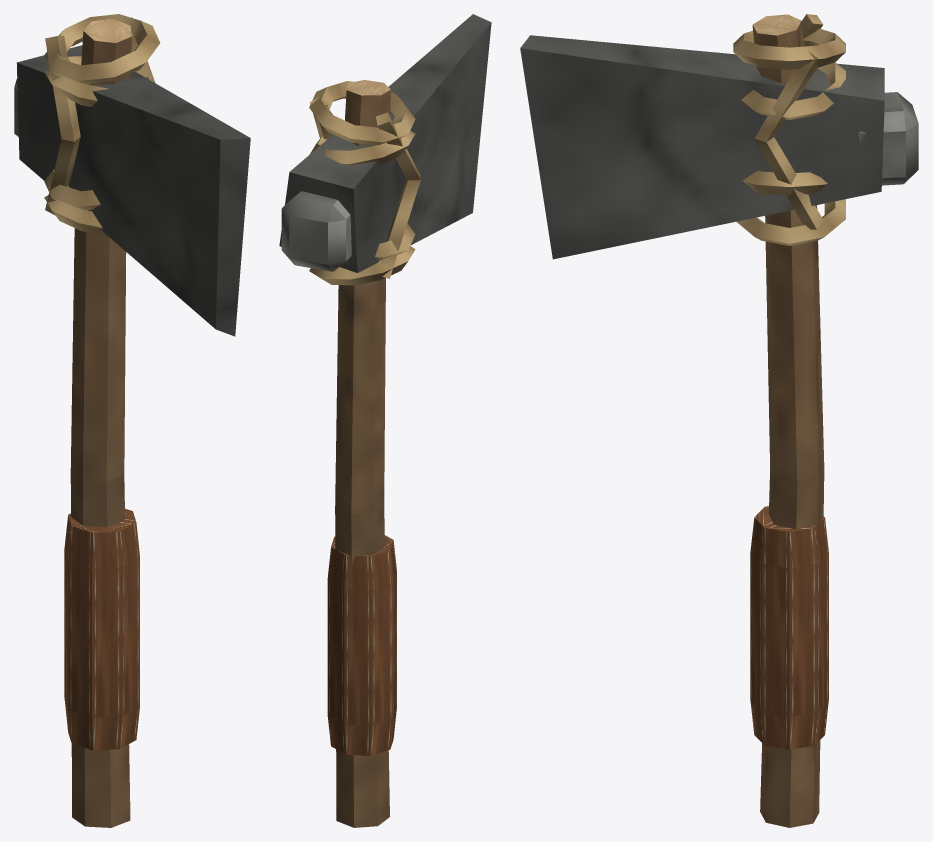
Rendered from SM_StoneAxe.fbx.
The picture shows the model from 3 angles, left to right: view 1: azimuth 30°, elevation 25°; view 2: azimuth 150°, elevation 25°; view 3: azimuth 270°, elevation 25°; orthographic projection. The views are drawn at different scales.
Parts seen in each view (by area): view 1: SM_StoneAxe; view 2: SM_StoneAxe; view 3: SM_StoneAxe.
Part boxes in pixels (x1=…): SM_StoneAxe: x1=14, y1=14, x2=250, y2=827; SM_StoneAxe: x1=279, y1=14, x2=491, y2=827; SM_StoneAxe: x1=520, y1=14, x2=918, y2=827.
Size of the model in its own units: 0.4784 by 3.46 by 1.58.
1 material, 1 textured.
